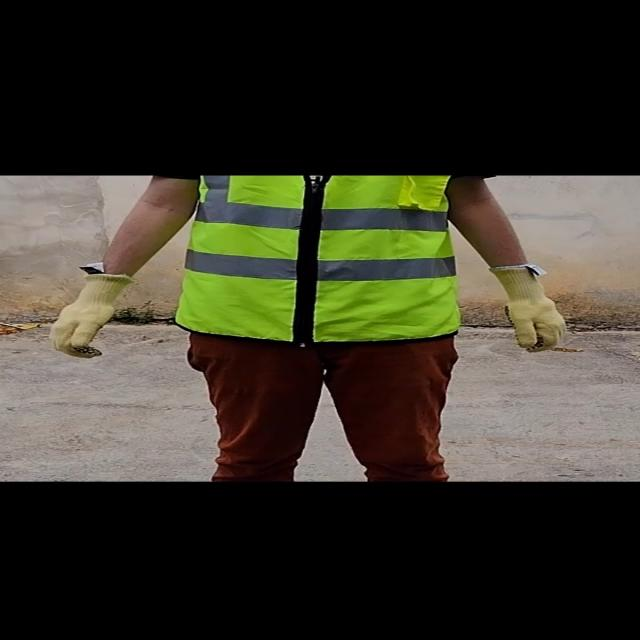glove: (43, 268, 156, 362), (474, 254, 572, 358)
pants: (203, 337, 468, 484)
vest: (172, 176, 469, 340)
